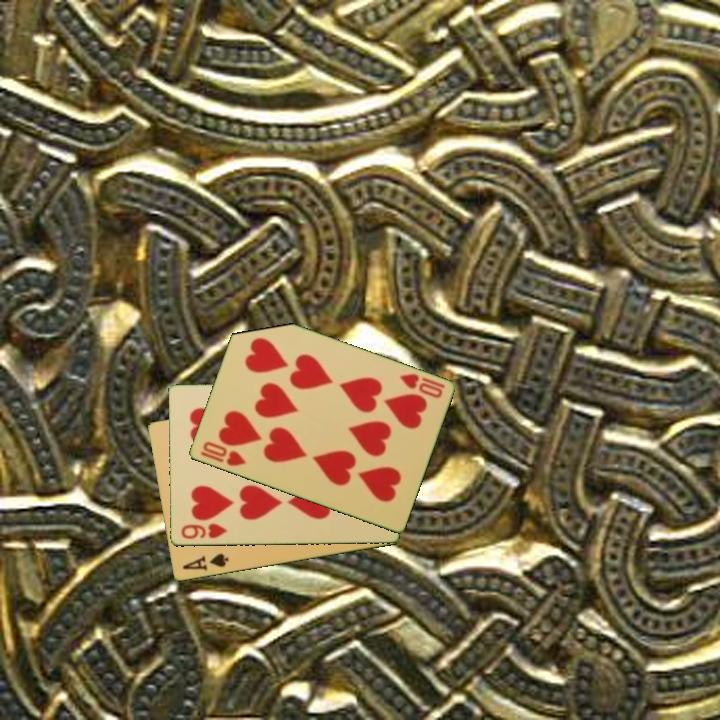10h: (395, 370, 447, 401), (199, 438, 249, 469)
9h: (177, 520, 230, 542)
As: (179, 550, 231, 574)
